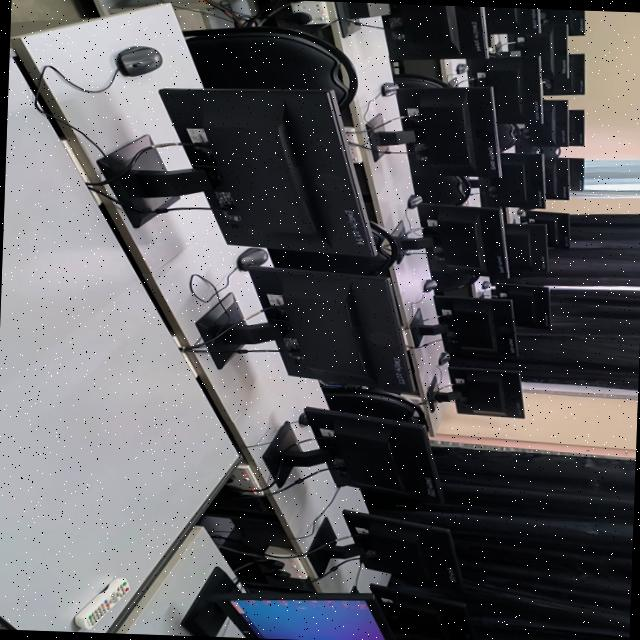Chair: (184, 25, 357, 107), (321, 383, 425, 423), (269, 248, 394, 273), (412, 169, 471, 204), (431, 270, 479, 289), (497, 122, 528, 149)
Monitor: (159, 87, 374, 255), (199, 265, 412, 390), (264, 405, 443, 501), (308, 508, 460, 586), (396, 86, 501, 176), (418, 202, 508, 276), (383, 2, 487, 59), (434, 294, 516, 355), (435, 364, 524, 417), (492, 281, 550, 327), (514, 24, 559, 77), (505, 222, 547, 276), (520, 99, 566, 145), (524, 210, 570, 247), (544, 52, 584, 94), (546, 156, 569, 198), (569, 108, 584, 145), (568, 157, 583, 190), (569, 9, 584, 34), (561, 25, 567, 67), (563, 99, 567, 119), (563, 119, 567, 132)
Mouse: (117, 45, 161, 75), (237, 247, 267, 269), (381, 81, 399, 95), (407, 193, 422, 207), (438, 350, 451, 364), (424, 278, 437, 291), (457, 62, 468, 72), (484, 280, 492, 289), (517, 207, 526, 215)
